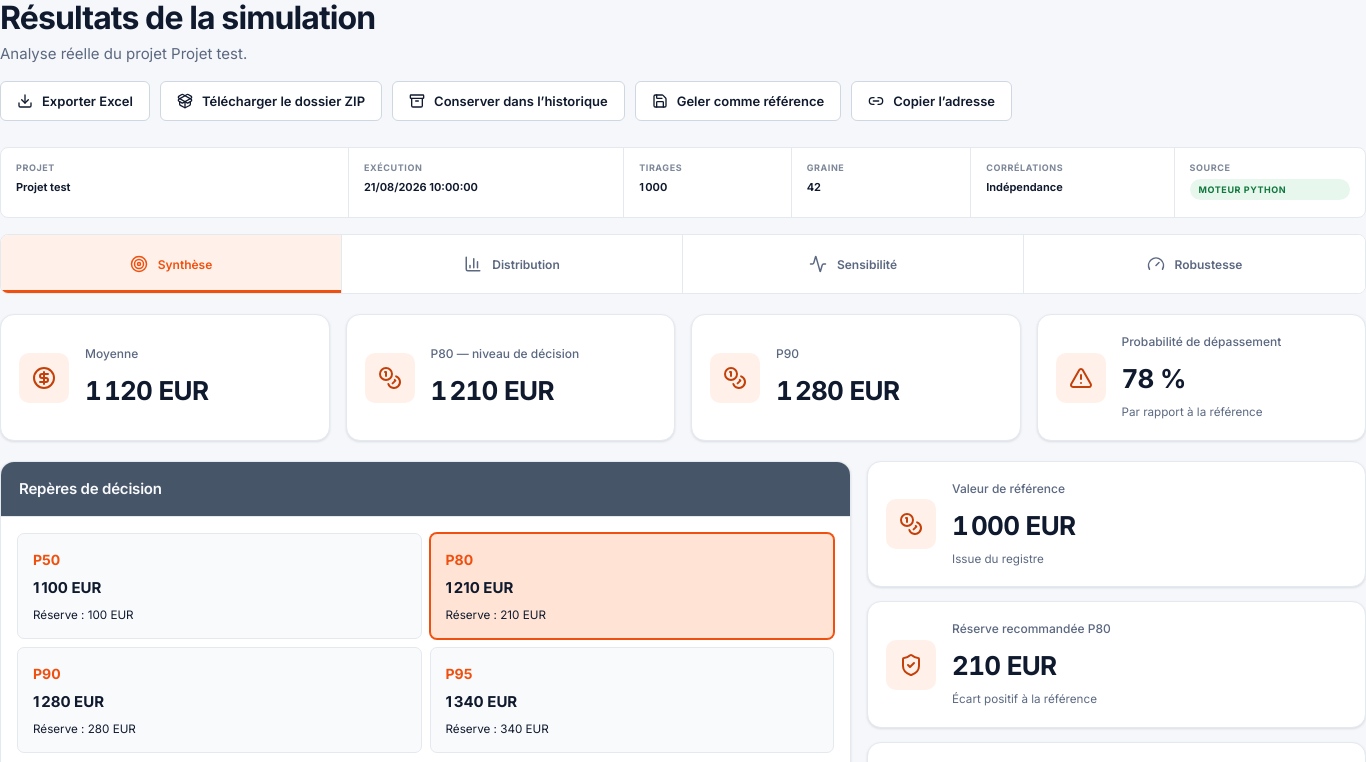
SimulationResultsPage › affiche les résultats réels et permet de parcourir les visualisations
Expected: the text "Projet test" is shown, [16,180,70,194]
Expected: the text "1 210 EUR" is shown 2 times, [430,375,554,406]; [446,578,513,597]
Click the tab "Distribution": (512, 264) [342,235,683,293]
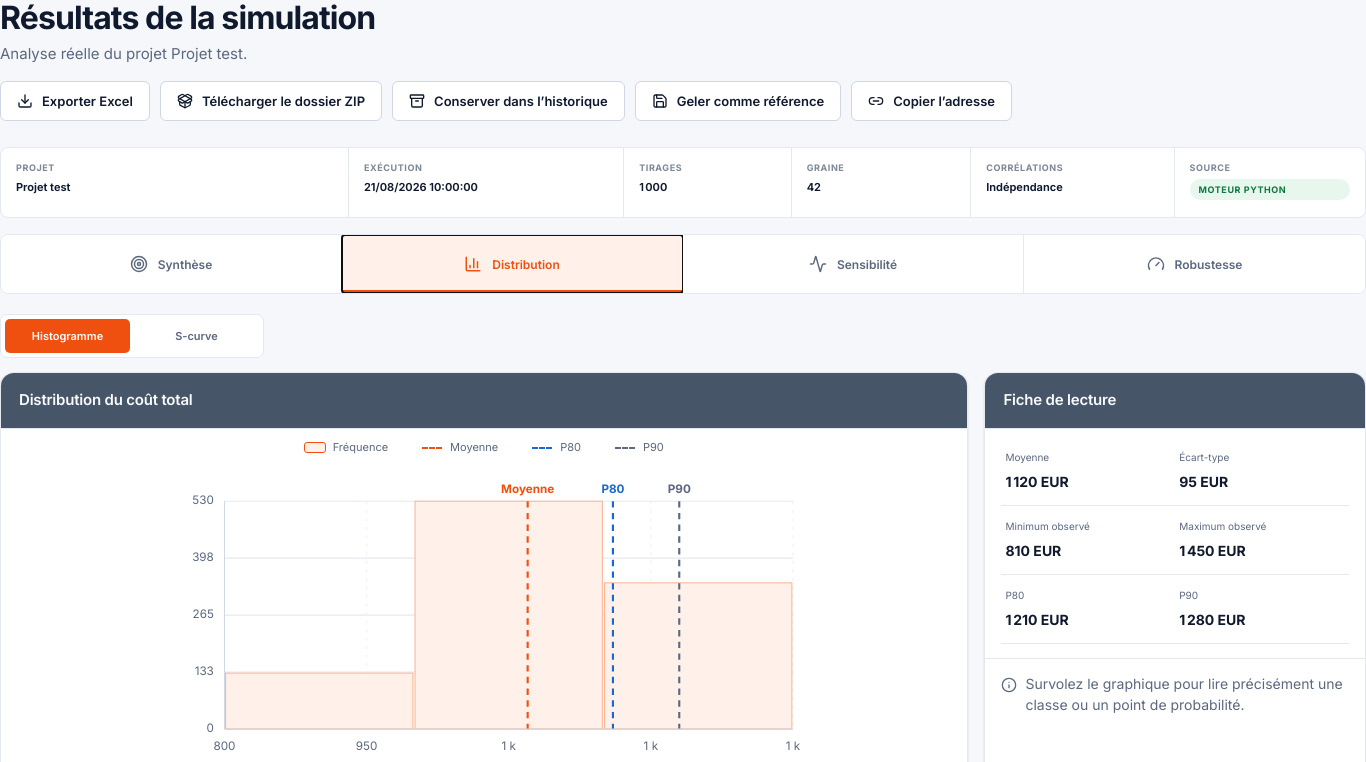
Click the tab "S-curve": (196, 336) [134,319,259,353]
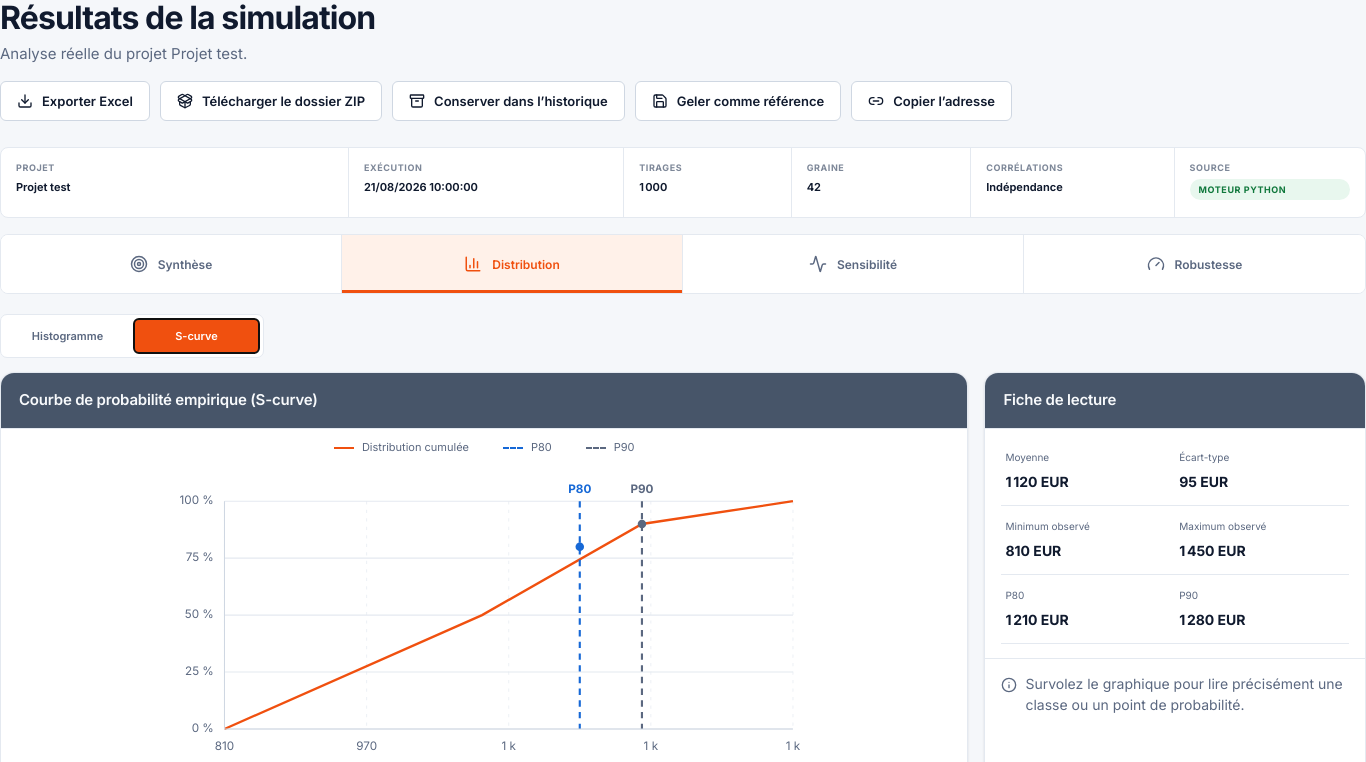
Click the tab "Sensibilité": (854, 264) [683,235,1024,293]
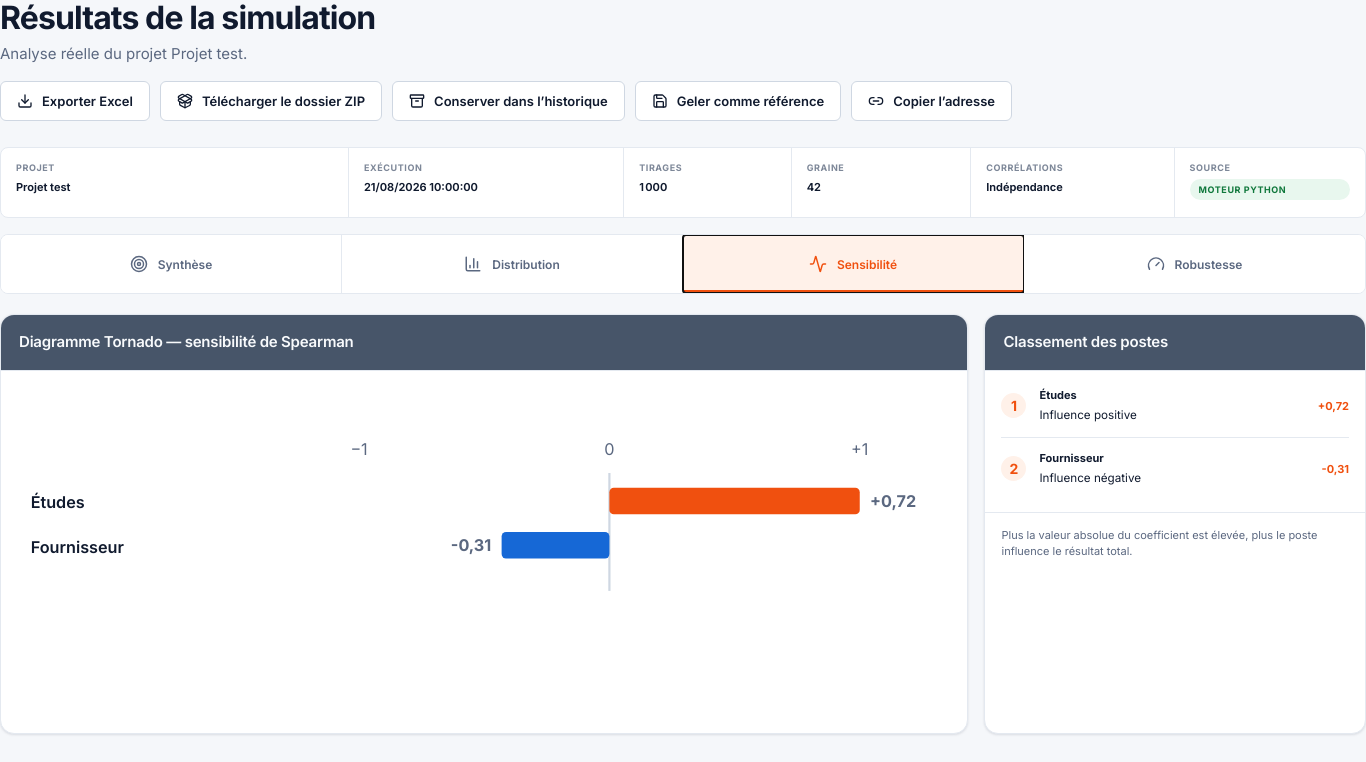
Expected: the picture named "Diagramme Tornado des postes les plus sensibles" is shown, [13,381,956,683]
Click the tab "Robustesse": (1194, 264) [1024,235,1365,293]
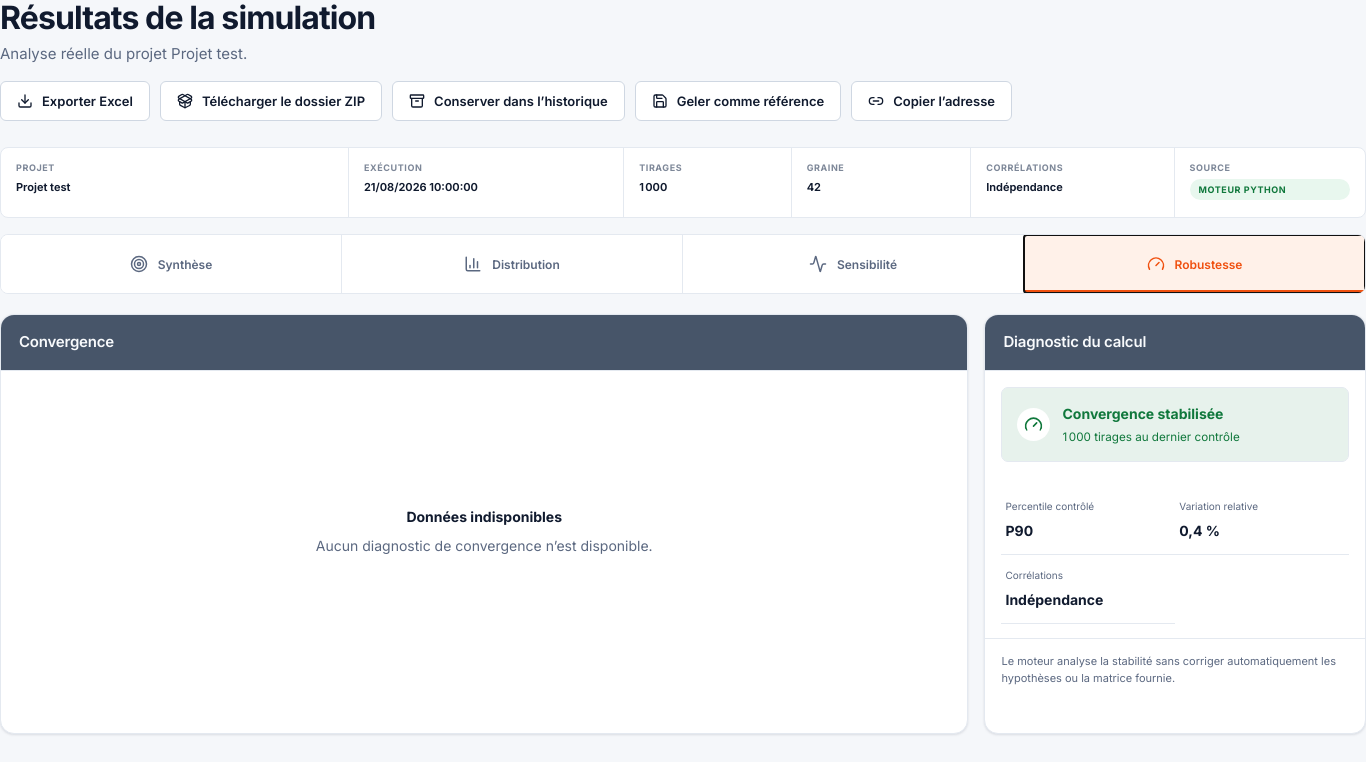
Expected: the text "Convergence stabilisée" is shown, [1062,403,1240,424]
